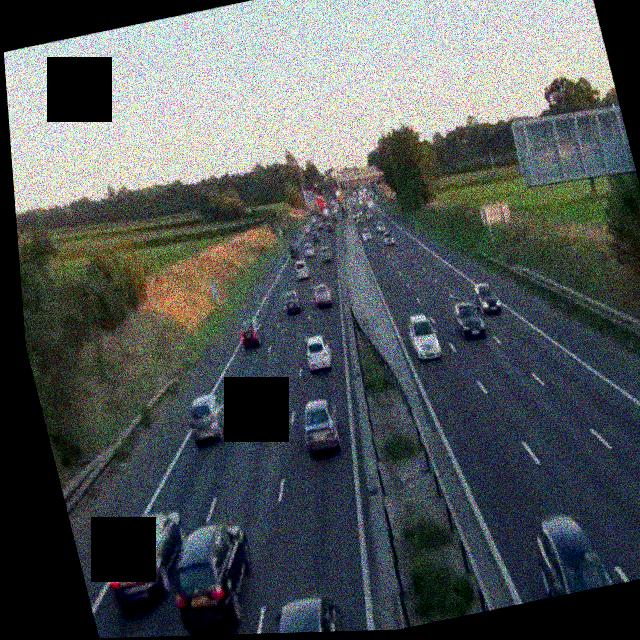car: (158, 517, 267, 636), (93, 508, 201, 613), (527, 505, 621, 599), (262, 590, 345, 634), (296, 396, 344, 455), (182, 391, 234, 445), (405, 310, 443, 361), (449, 298, 486, 342), (301, 331, 334, 374), (471, 279, 501, 315), (236, 315, 265, 349), (310, 280, 334, 309), (280, 286, 303, 315), (293, 258, 310, 279), (380, 228, 395, 247), (318, 245, 333, 263), (302, 241, 315, 258), (287, 243, 299, 260), (361, 227, 373, 243), (302, 224, 313, 238), (322, 220, 333, 233), (351, 213, 362, 224)
